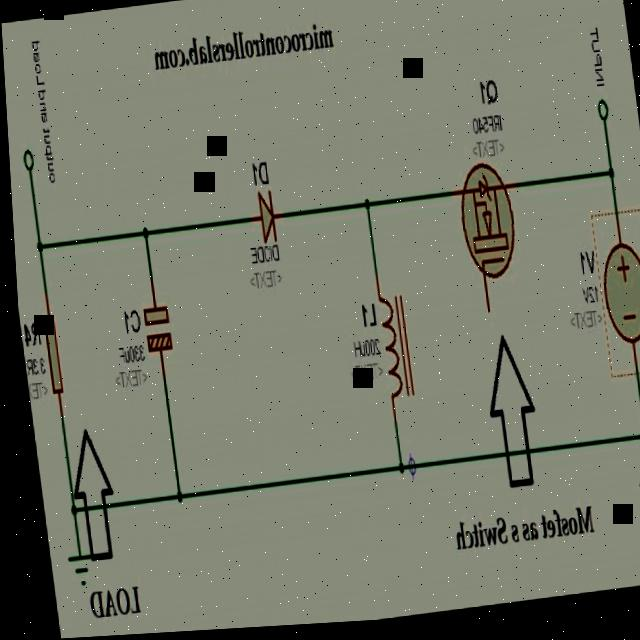capacitor: (130, 275, 180, 374)
diode: (245, 174, 289, 269)
ground: (53, 530, 91, 596), (623, 468, 640, 532)
inductor: (363, 274, 414, 420)
mosfet: (446, 150, 526, 334)
node: (132, 213, 153, 255), (27, 228, 46, 269), (381, 453, 403, 488), (351, 194, 375, 221), (164, 486, 182, 511), (598, 164, 614, 192), (629, 423, 640, 458), (59, 501, 73, 522)
resistor: (31, 299, 69, 411)
source: (581, 211, 640, 380)
